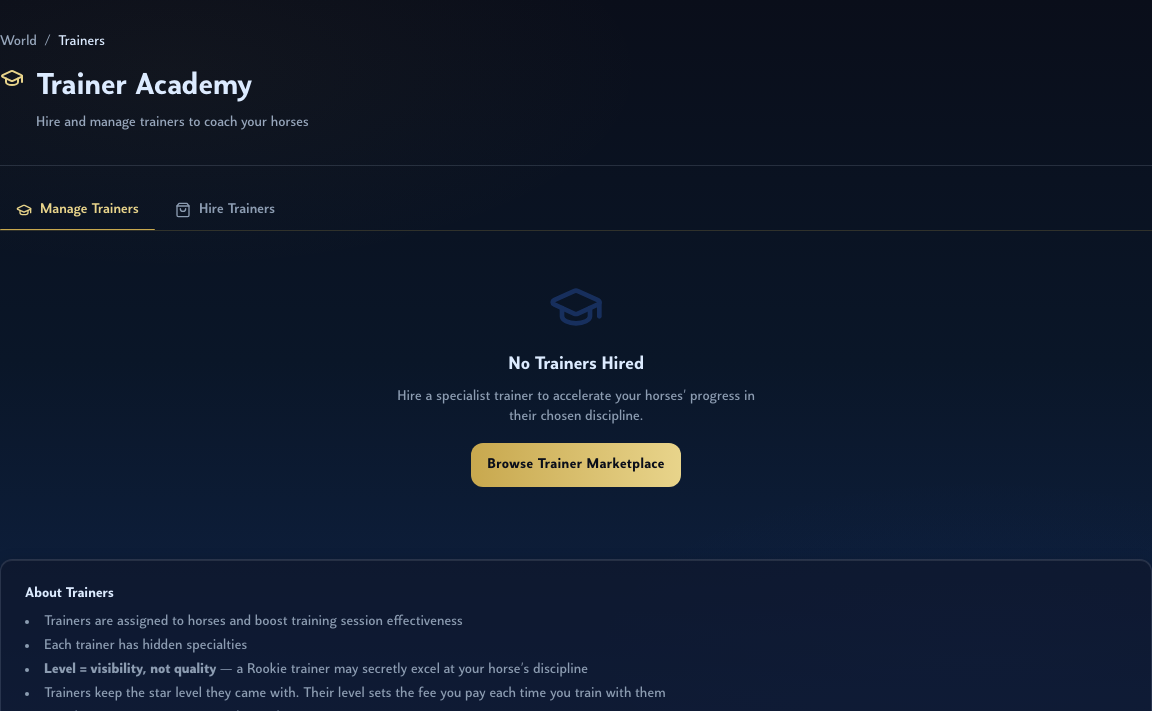
Scenario: TrainersPage — manage/hire tab switch (Equoria-o5hub.30) › switching back to Manage from Hire restores the dashboard
Check: the element with test id "no-trainers-state" is shown, box [397,279,755,487]
Click the tab with test id "hire-tab" at (225, 210), box [159,190,291,230]
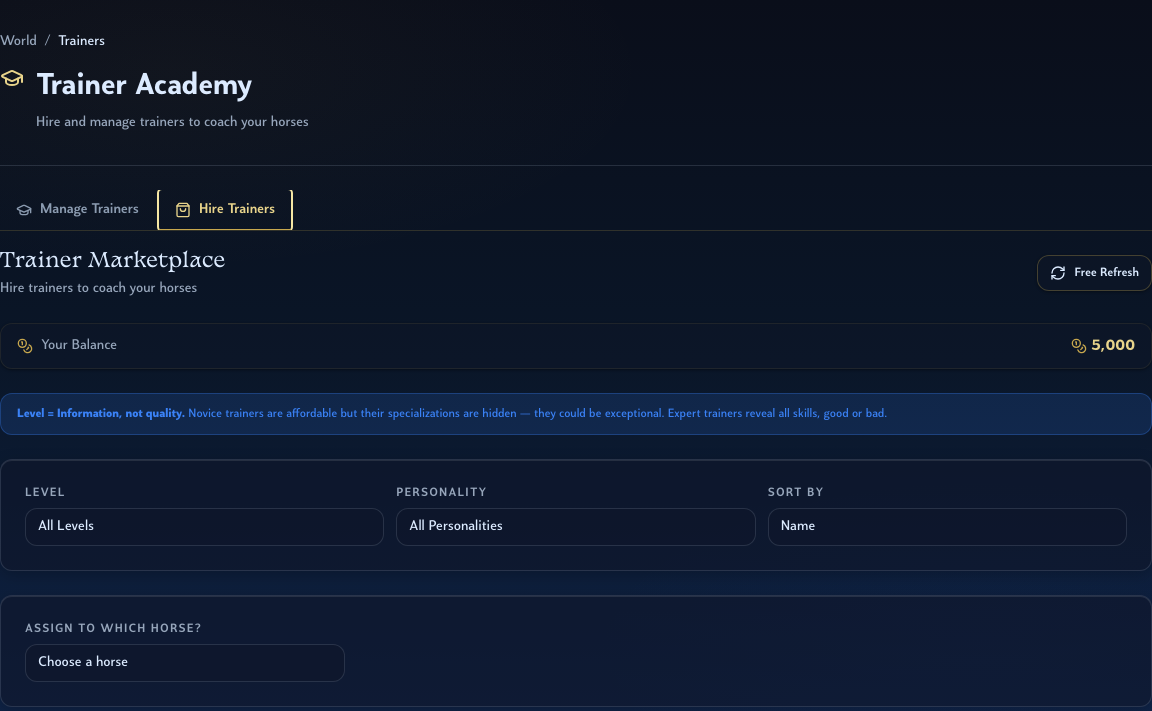
Click the tab with test id "manage-tab" at (77, 210), box [0,190,155,230]
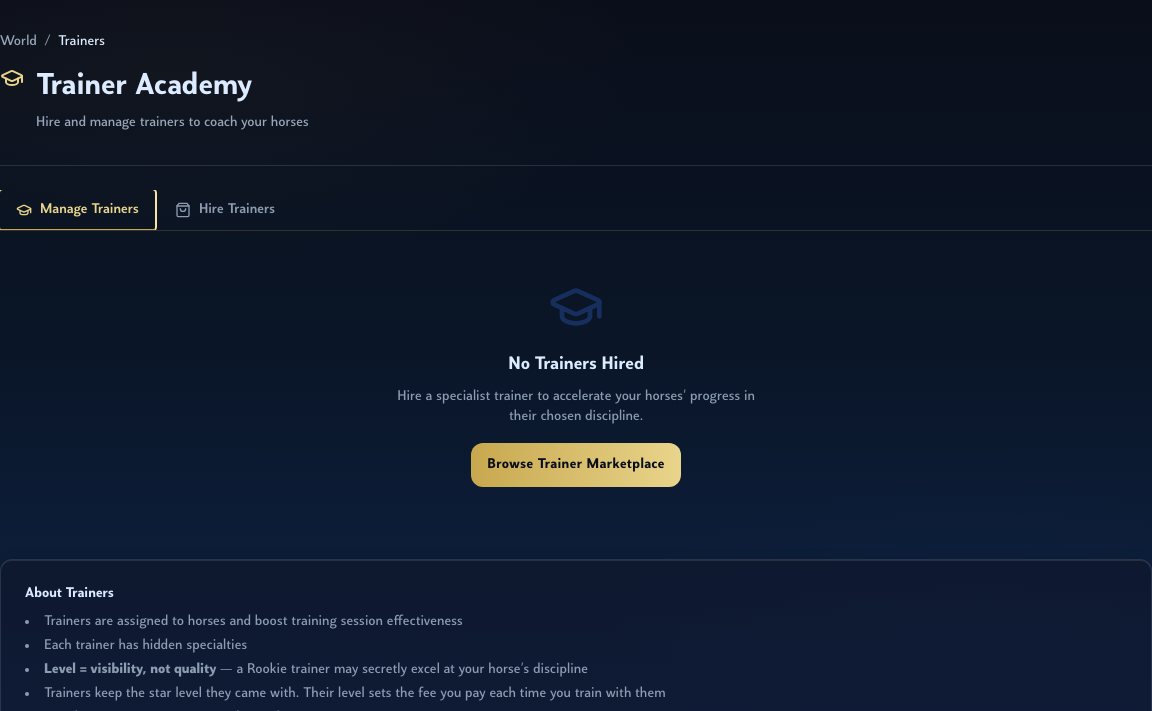
Check: the element with test id "no-trainers-state" is shown, box [397,279,755,487]
